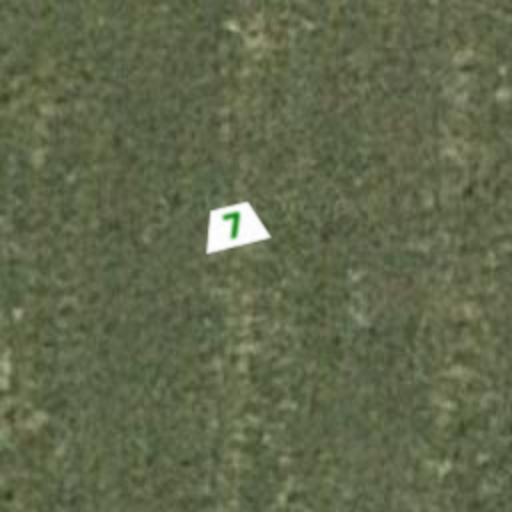trapezoid: (192, 184, 276, 268)
